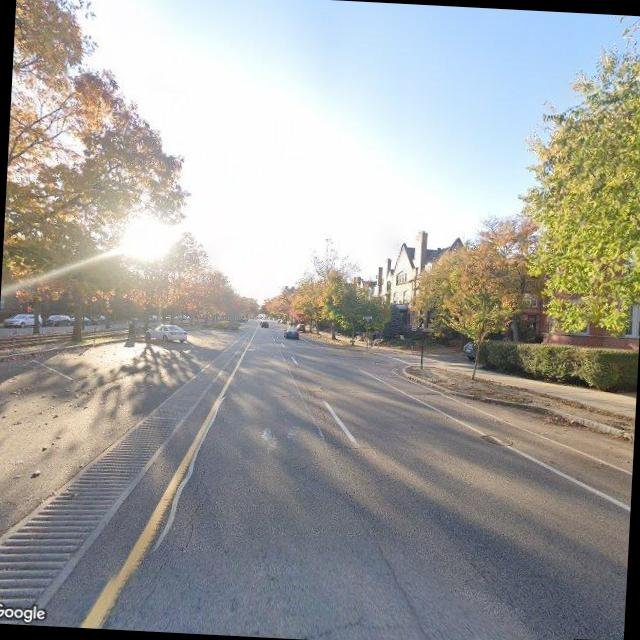pothole: (178, 468, 211, 555)
